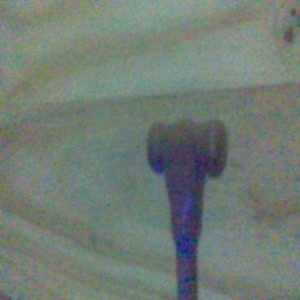palu: (146, 117, 228, 300)
